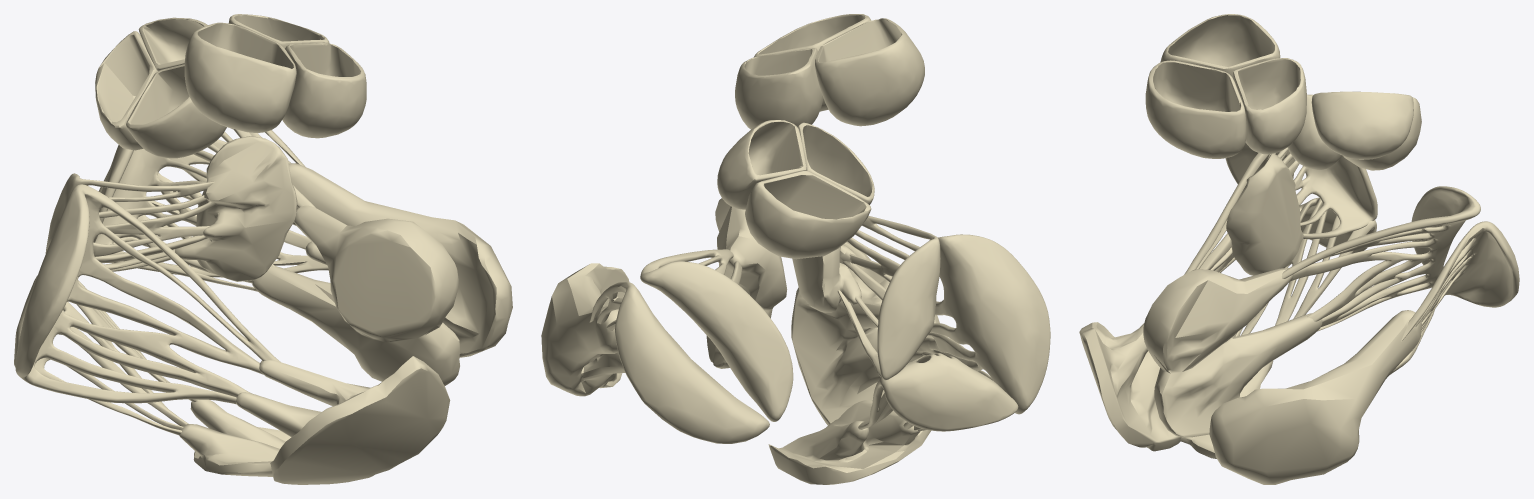
File: bodyparts3d-heart-internal.glb
The picture shows the model from 3 angles, left to right: view 1: azimuth 30°, elevation 25°; view 2: azimuth 150°, elevation 25°; view 3: azimuth 270°, elevation 25°; orthographic projection. The views are drawn at different scales.
Parts seen in each view (by area): view 1: cardiac-fma7238, cardiac-fma7265, cardiac-fma7260, cardiac-fma7262, cardiac-fma7264, cardiac-fma7249, cardiac-fma7247, cardiac-fma7240, cardiac-fma7253, cardiac-fma7261, cardiac-fma7242, cardiac-fma7252 (+4 smaller); view 2: cardiac-fma7238, cardiac-fma7243, cardiac-fma7242, cardiac-fma7240, cardiac-fma7249, cardiac-fma7260, cardiac-fma7264, cardiac-fma7252, cardiac-fma7239, cardiac-fma7261, cardiac-fma7250, cardiac-fma7254 (+4 smaller); view 3: cardiac-fma7265, cardiac-fma7264, cardiac-fma7242, cardiac-fma7247, cardiac-fma7260, cardiac-fma7262, cardiac-fma7243, cardiac-fma7254, cardiac-fma7250, cardiac-fma7249, cardiac-fma7240, cardiac-fma7239 (+4 smaller).
Boxes of the visible parts, x1,y1,x2,y2 form: cardiac-fma7238: (15,184,280,404); cardiac-fma7265: (252,205,459,385); cardiac-fma7260: (236,356,450,484); cardiac-fma7262: (175,136,297,281); cardiac-fma7264: (288,163,512,357); cardiac-fma7249: (184,22,296,132); cardiac-fma7247: (282,42,366,138); cardiac-fma7240: (45,173,216,271); cardiac-fma7253: (126,64,226,158); cardiac-fma7261: (179,399,290,476); cardiac-fma7242: (93,129,315,291); cardiac-fma7252: (95,31,157,150); cardiac-fma7238: (917,234,1050,414); cardiac-fma7243: (589,282,769,443); cardiac-fma7242: (640,249,793,421); cardiac-fma7240: (837,216,940,380); cardiac-fma7249: (815,18,924,126); cardiac-fma7260: (791,241,939,425); cardiac-fma7264: (541,263,629,396); cardiac-fma7252: (745,170,871,259); cardiac-fma7239: (858,353,1018,431); cardiac-fma7261: (768,400,930,484); cardiac-fma7250: (735,48,823,129); cardiac-fma7254: (717,120,806,209); cardiac-fma7265: (1143,268,1322,437); cardiac-fma7264: (1209,310,1421,484); cardiac-fma7242: (1281,186,1480,331); cardiac-fma7247: (1145,60,1246,158); cardiac-fma7260: (1079,322,1181,451); cardiac-fma7262: (1226,153,1303,275); cardiac-fma7243: (1390,221,1519,374); cardiac-fma7254: (1311,91,1413,159); cardiac-fma7250: (1233,58,1306,154); cardiac-fma7249: (1160,14,1280,78); cardiac-fma7240: (1267,147,1377,239); cardiac-fma7239: (1235,197,1376,336).
Bounding box in the file's own units: 0.0956 × 0.0868 × 0.0873.
